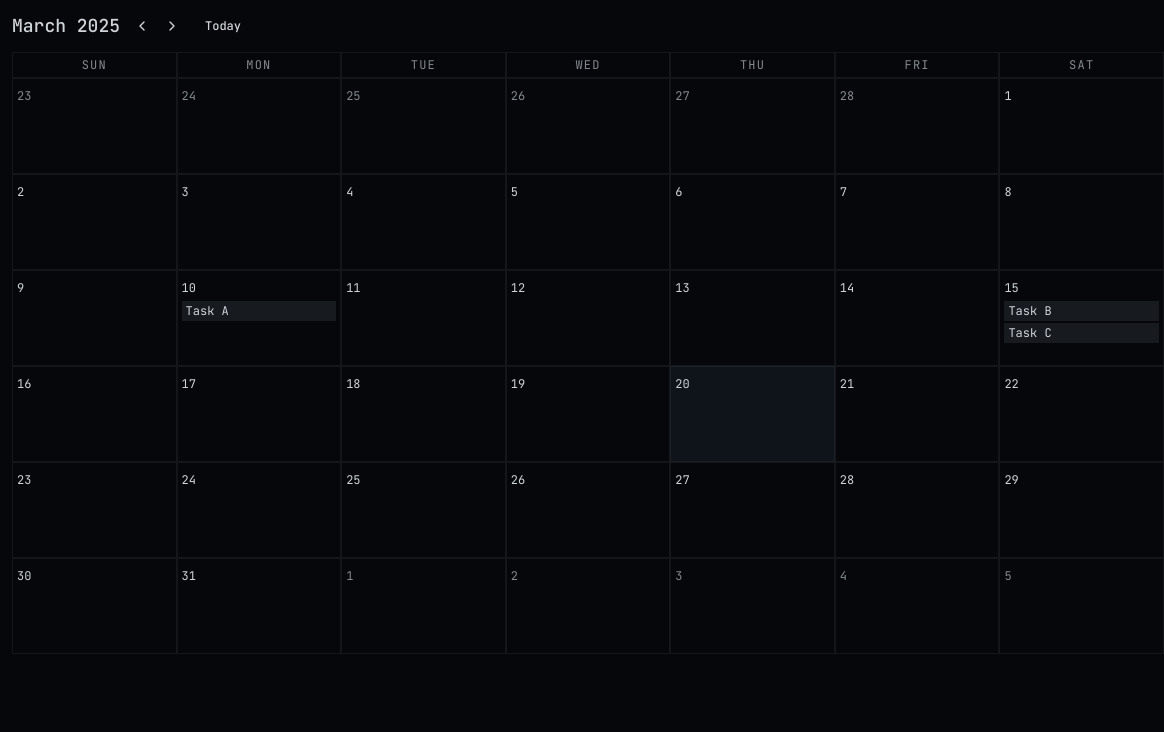
CalendarView › previous month navigation updates the displayed month
Expected: the heading "March 2025" is shown, 12,12 -> 120,40
Click the button named "Previous month" at {"x": 142, "y": 26}, box 128,12 -> 156,40
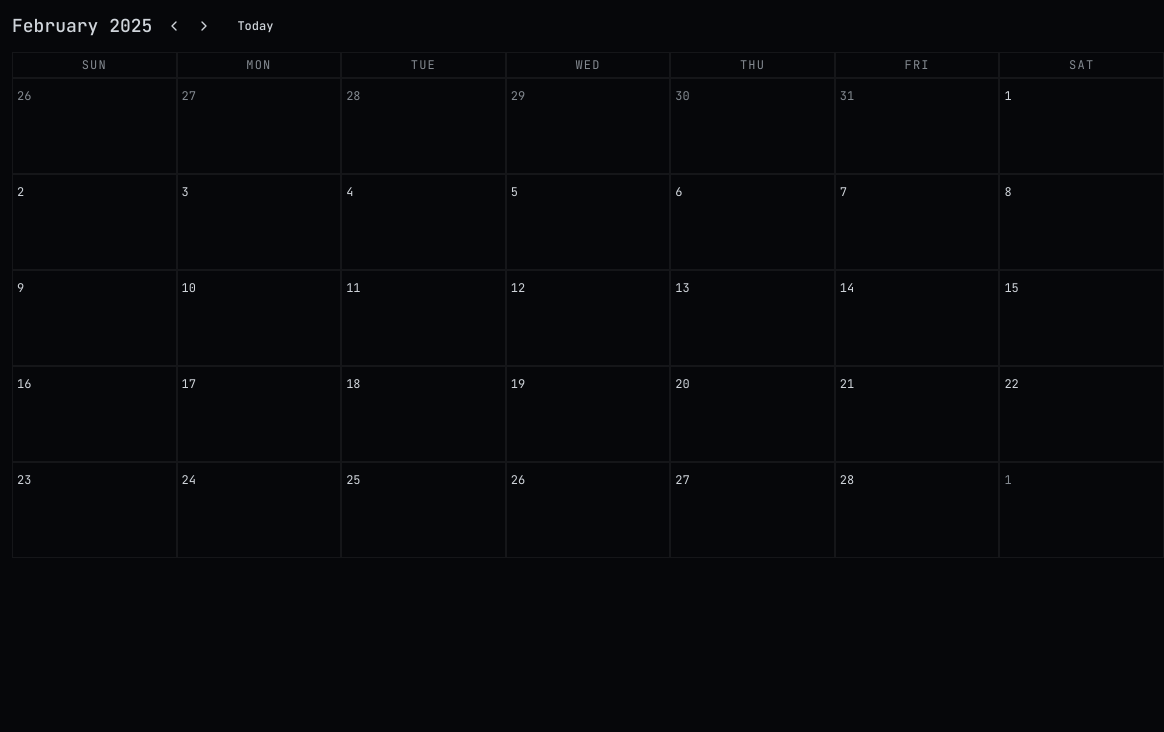
Result: the heading "February 2025" is shown at 12,12 -> 152,40
Result: the heading "March 2025" is gone
